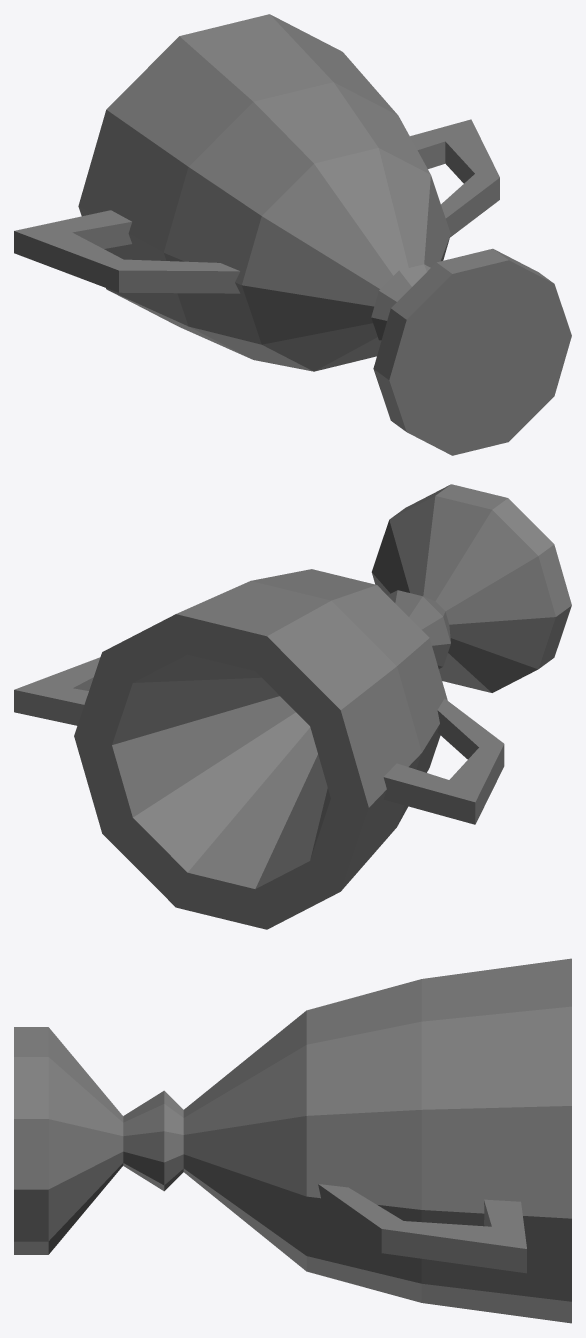
Rendered from Cup_Silver.fbx.
3 views of the same model, one above another, from view 1: azimuth 30°, elevation 25°; view 2: azimuth 150°, elevation 25°; view 3: azimuth 270°, elevation 25° (orthographic). The views are drawn at different scales.
Visible parts, largest first — view 1: Cup_Silver; view 2: Cup_Silver; view 3: Cup_Silver.
Part boxes in pixels (x1,y1,x2,y2): Cup_Silver: [14, 14, 571, 455]; Cup_Silver: [14, 484, 571, 929]; Cup_Silver: [14, 958, 571, 1323].
Size of the model in its own units: 101 by 61.14 by 97.54.
